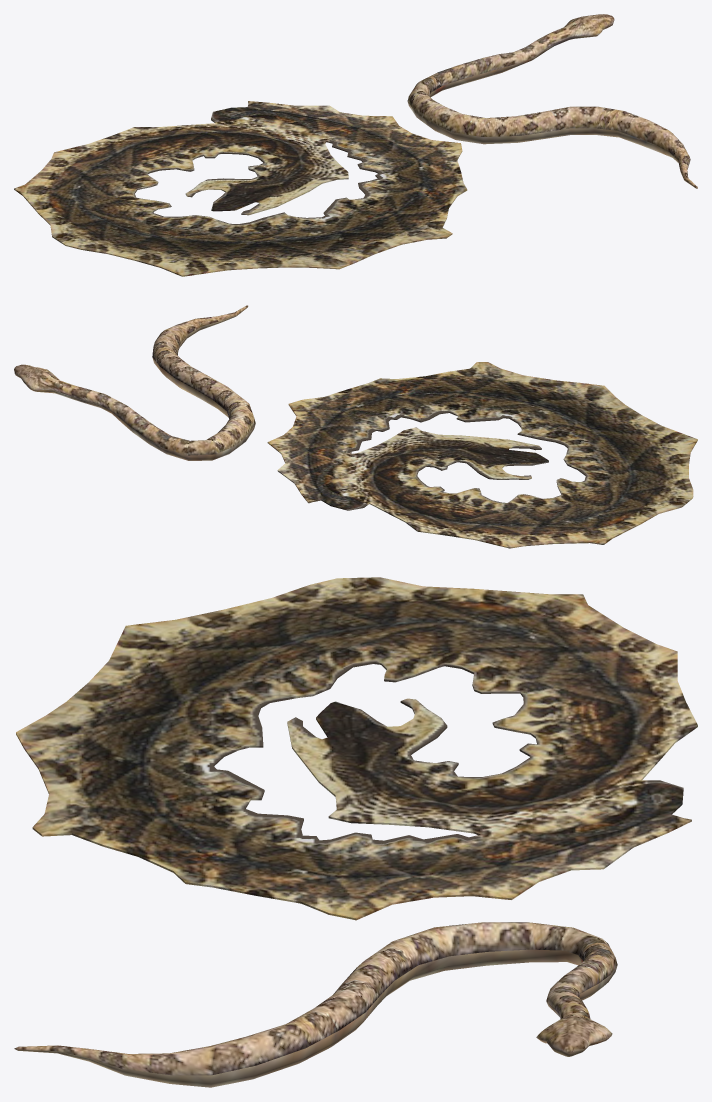
File: qishe.FBX
3 renders of one model, top to bottom at view 1: azimuth 30°, elevation 25°; view 2: azimuth 150°, elevation 25°; view 3: azimuth 270°, elevation 25°, orthographic. The views are drawn at different scales.
Parts seen in each view (by area): view 1: Line002, Cylinder001; view 2: Line002, Cylinder001; view 3: Line002, Cylinder001.
Part boxes in pixels (bbox=[...]): Line002: bbox=[14, 101, 467, 276]; Cylinder001: bbox=[407, 14, 697, 188]; Line002: bbox=[267, 362, 697, 548]; Cylinder001: bbox=[14, 305, 255, 460]; Line002: bbox=[16, 577, 697, 920]; Cylinder001: bbox=[14, 922, 617, 1087].
Bounding box in the file's own units: 61.66 × 5.1 × 34.08.
1 material, 1 textured.
